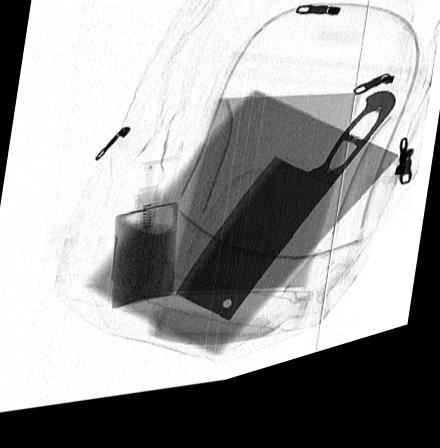Knife: (174, 112, 396, 335)
